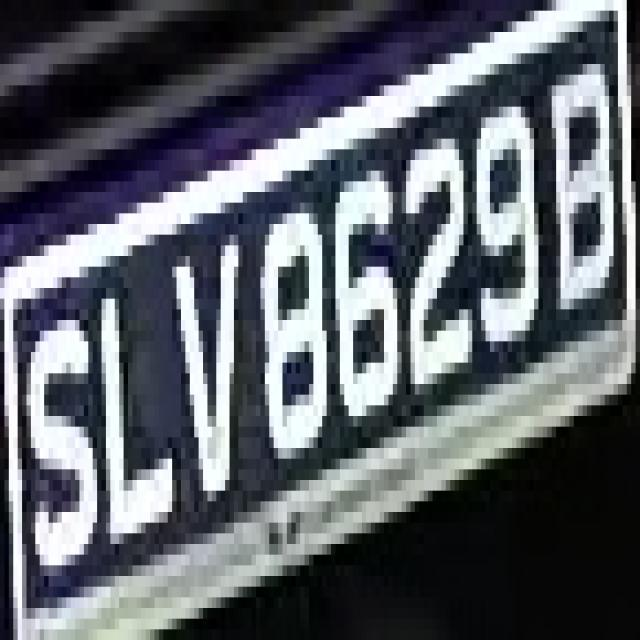2: (402, 107, 481, 405)
6: (327, 128, 419, 448)
8: (247, 182, 340, 502)
9: (463, 107, 548, 384)
B: (538, 21, 627, 363)
L: (97, 267, 177, 544)
S: (13, 298, 93, 586)
V: (168, 224, 252, 512)
